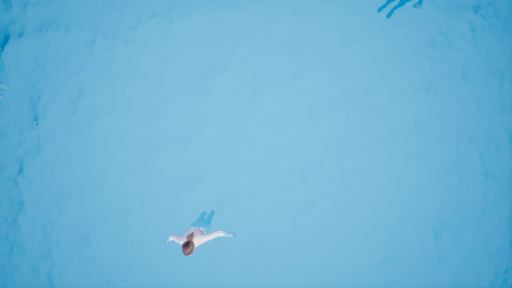person: (166, 211, 237, 253)
